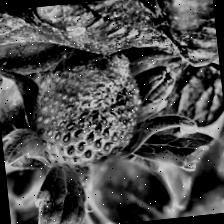Powdery Mildew Fruit: (28, 49, 145, 150)
